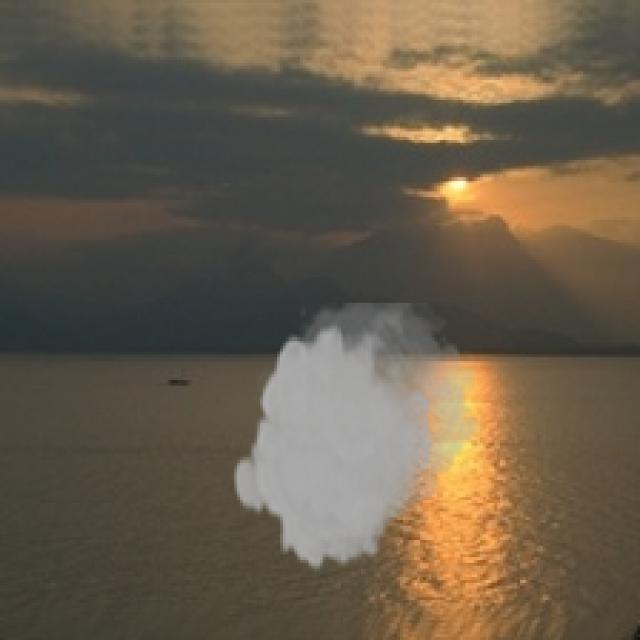smoke: (231, 303, 486, 574)
